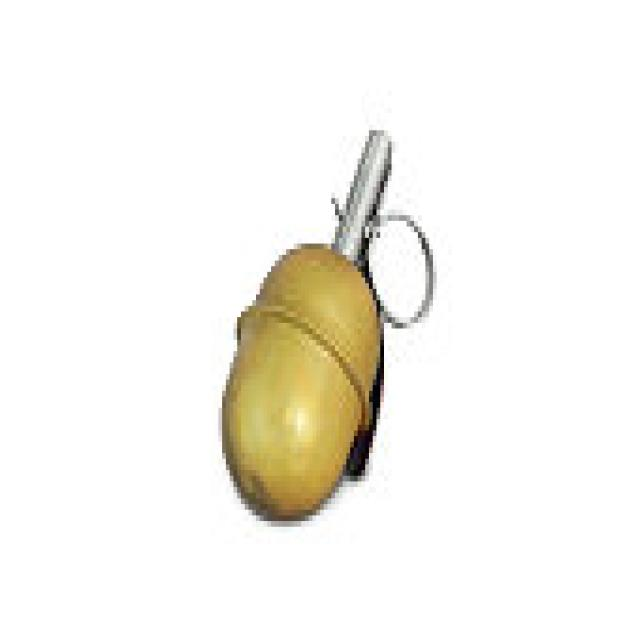grenade: (225, 125, 440, 530)
